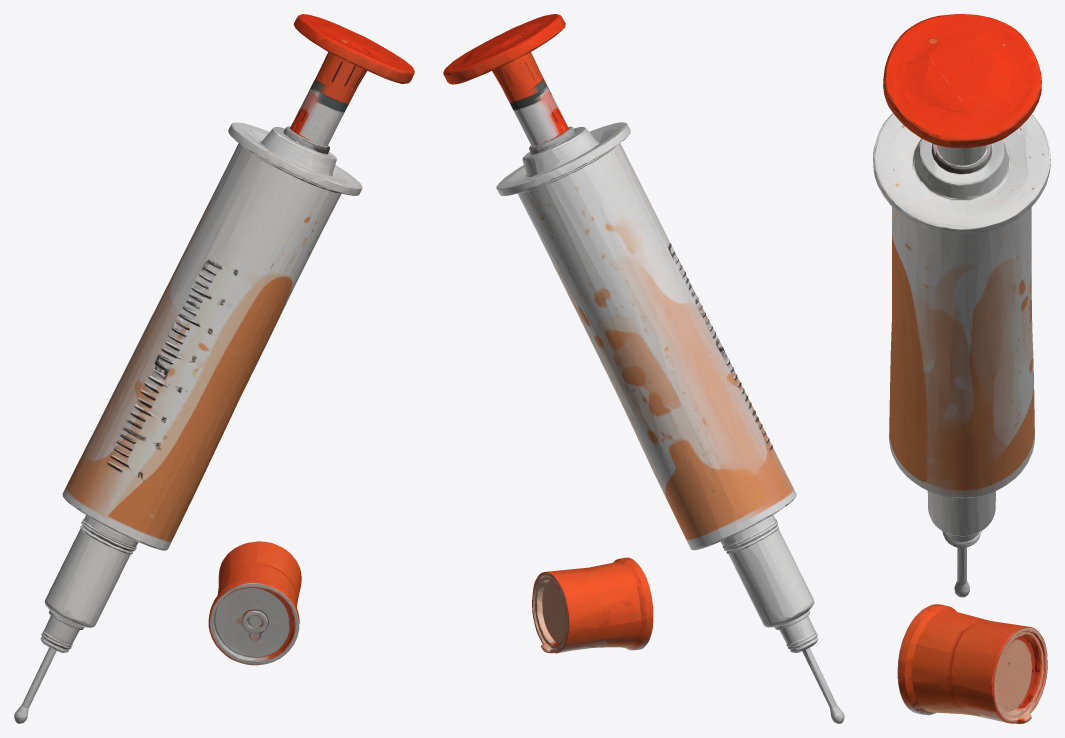
3 renders of one model, left to right at view 1: azimuth 30°, elevation 25°; view 2: azimuth 150°, elevation 25°; view 3: azimuth 270°, elevation 25°, orthographic. The views are drawn at different scales.
Bounding box in the file's own units: 1.24 × 1.9 × 0.4066.
Materials: 1 (1 with a texture image).
